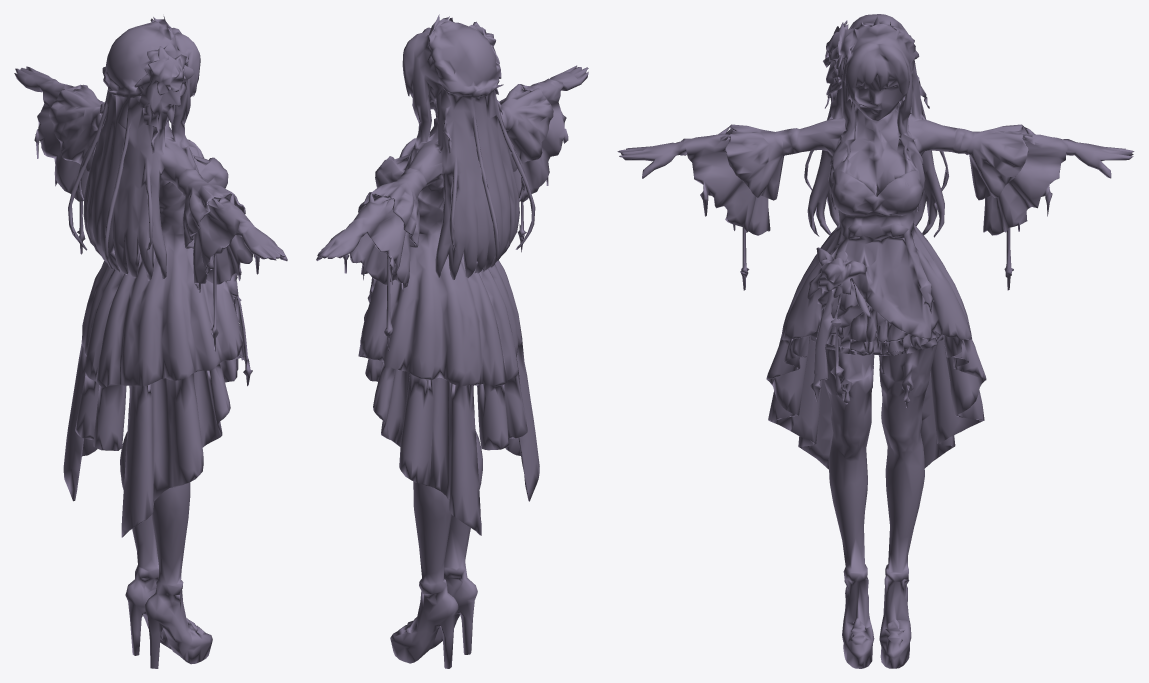
Rendered from gothic.glb.
3 views of the same model, side by side, from view 1: azimuth 30°, elevation 25°; view 2: azimuth 150°, elevation 25°; view 3: azimuth 270°, elevation 25° (orthographic).
Visible parts, largest first — view 1: GothicDressGirl; view 2: GothicDressGirl; view 3: GothicDressGirl.
Boxes of the visible parts, x1,y1,x2,y2 form: GothicDressGirl: [14, 16, 287, 668]; GothicDressGirl: [316, 14, 588, 668]; GothicDressGirl: [617, 14, 1134, 668].
Bounding box in the file's own units: 0.2292 × 0.999 × 0.7361.
